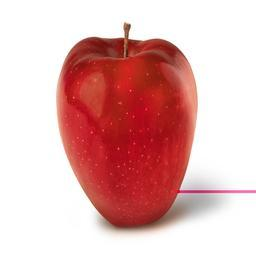apple: (56, 32, 198, 229)
